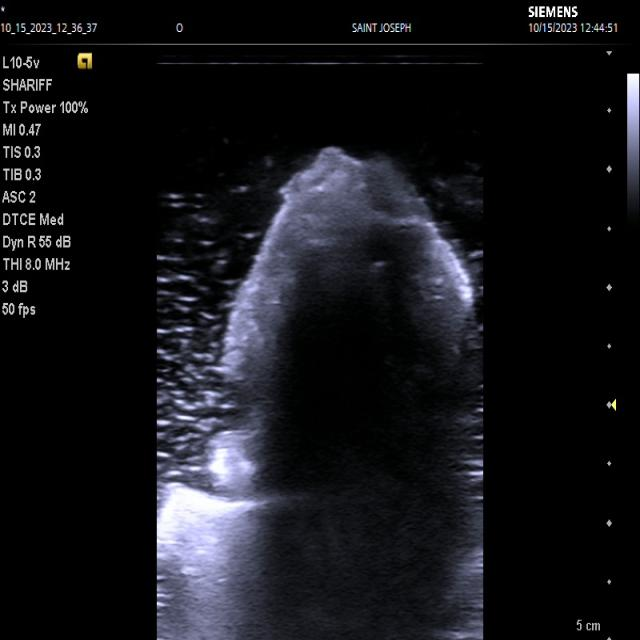tissue: (161, 148, 483, 640)
